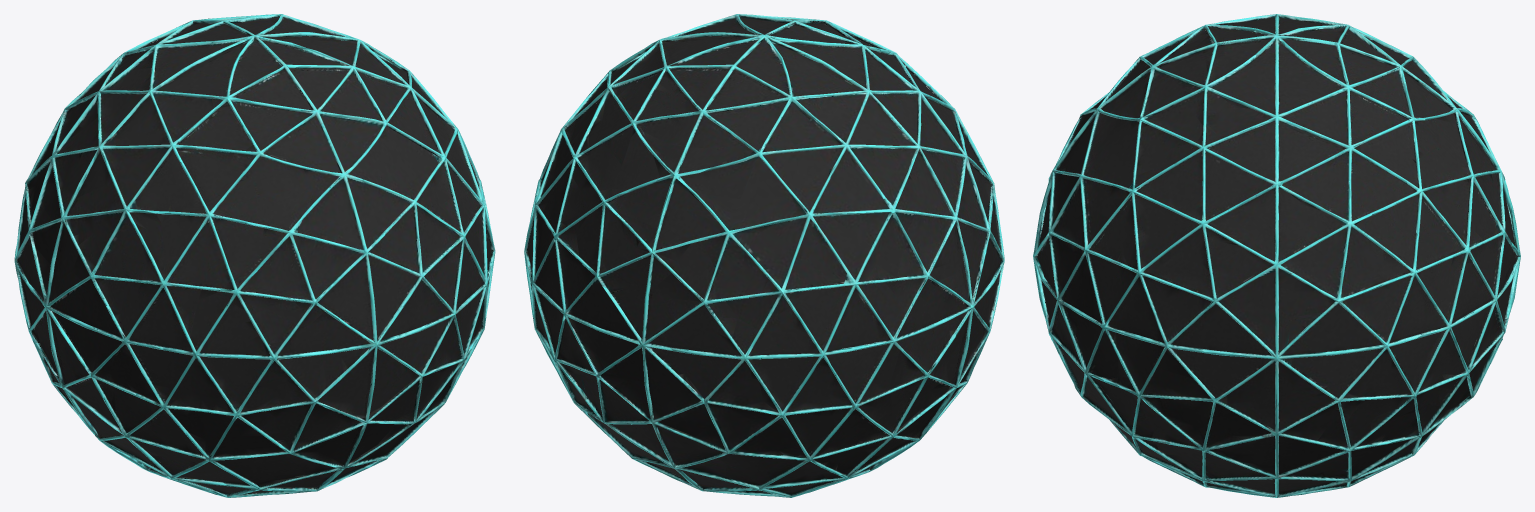
File: EsferaAzul.glb
3 renders of one model, left to right at view 1: azimuth 30°, elevation 25°; view 2: azimuth 150°, elevation 25°; view 3: azimuth 270°, elevation 25°, orthographic.
Visible parts, largest first — view 1: tripo_node_ec3be924-f3d3-48a6-a52b-9c916bdc0a75; view 2: tripo_node_ec3be924-f3d3-48a6-a52b-9c916bdc0a75; view 3: tripo_node_ec3be924-f3d3-48a6-a52b-9c916bdc0a75.
Part boxes in pixels (left/top/right/bottom): tripo_node_ec3be924-f3d3-48a6-a52b-9c916bdc0a75: left=14, top=14, right=495, bottom=497; tripo_node_ec3be924-f3d3-48a6-a52b-9c916bdc0a75: left=524, top=14, right=1004, bottom=497; tripo_node_ec3be924-f3d3-48a6-a52b-9c916bdc0a75: left=1033, top=14, right=1520, bottom=497.
Bounding box in the file's own units: 0.9725 × 0.9806 × 0.9807.
Materials: 1 (1 with a texture image).
